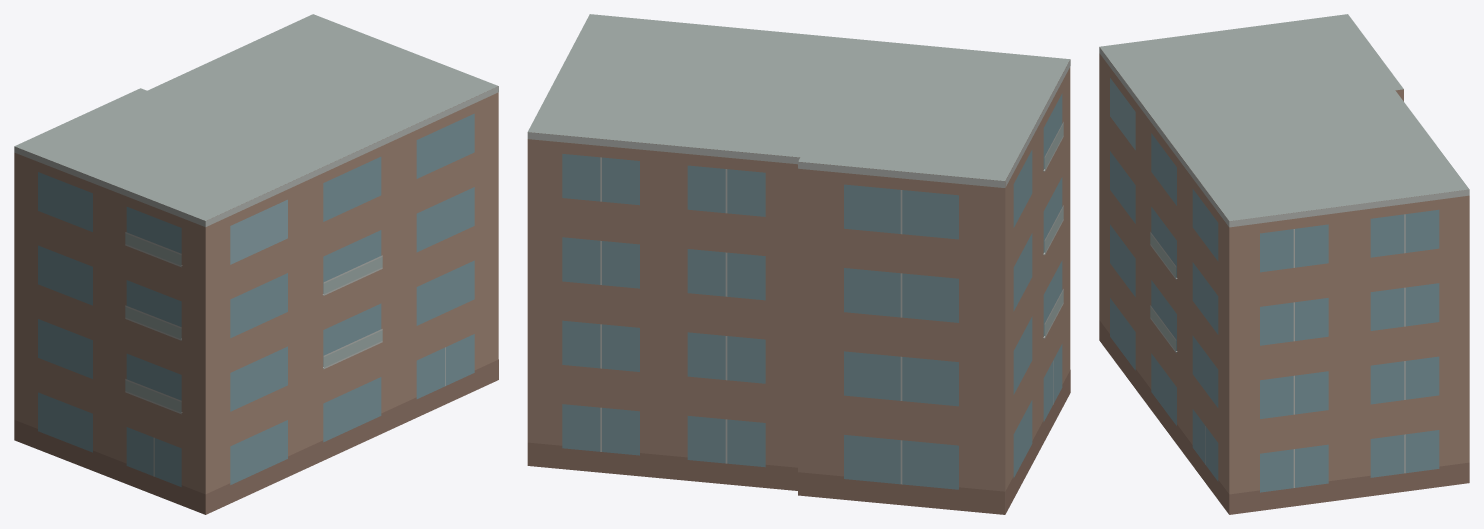
File: survey-upis-32612937.glb
3 views of the same model, side by side, from view 1: azimuth 30°, elevation 25°; view 2: azimuth 150°, elevation 25°; view 3: azimuth 270°, elevation 25° (orthographic). The views are drawn at different scales.
Visible parts, largest first — view 1: survey-upis-32612937.tmp; view 2: survey-upis-32612937.tmp; view 3: survey-upis-32612937.tmp.
Boxes of the visible parts, left/top/right/bottom form: survey-upis-32612937.tmp: left=14, top=14, right=498, bottom=514; survey-upis-32612937.tmp: left=527, top=14, right=1070, bottom=514; survey-upis-32612937.tmp: left=1099, top=14, right=1469, bottom=514.
Bounding box in the file's own units: 17.57 × 11.6 × 13.27.
